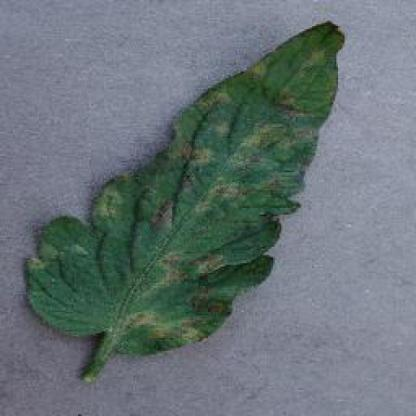Tomato_Leaf_Mold: (24, 23, 344, 350)
